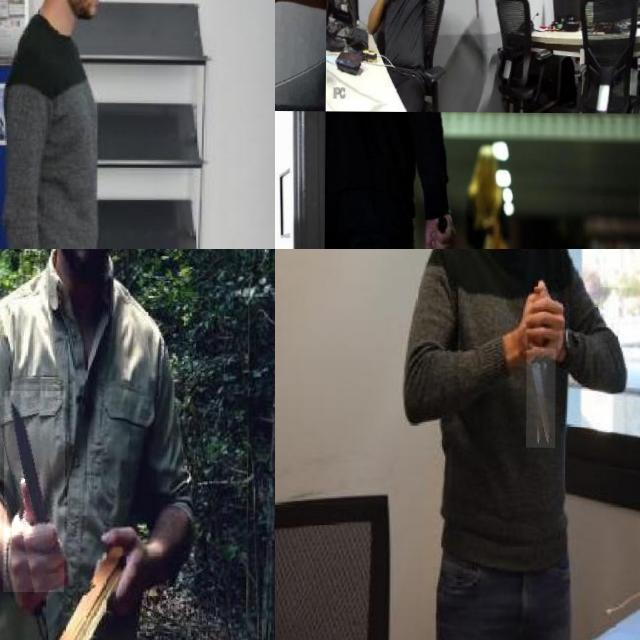-: (4, 390, 66, 592), (275, 0, 321, 84), (526, 348, 556, 447), (471, 0, 483, 32)
